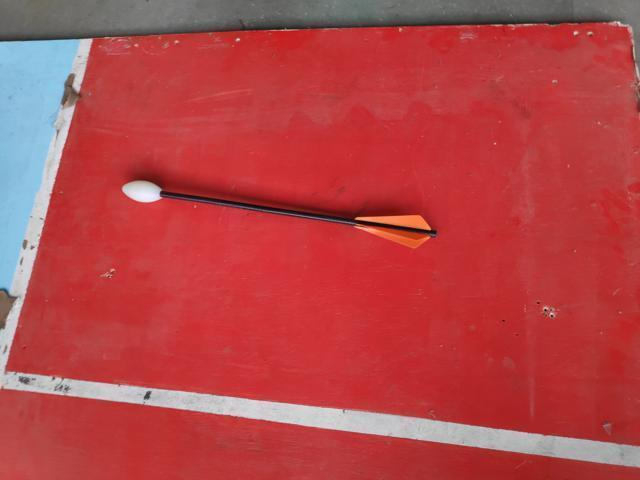Head: (118, 177, 165, 205)
Tail: (349, 212, 437, 250)
